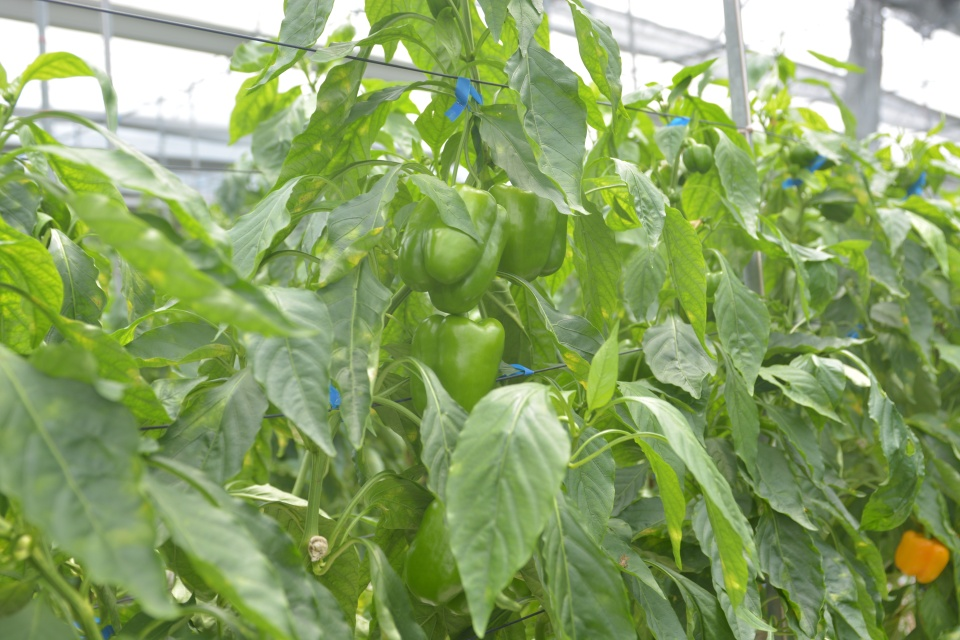fruit: (394, 181, 512, 317), (407, 313, 506, 420), (402, 494, 476, 619), (485, 180, 570, 287), (893, 526, 950, 585)
immature: (681, 142, 715, 176)
